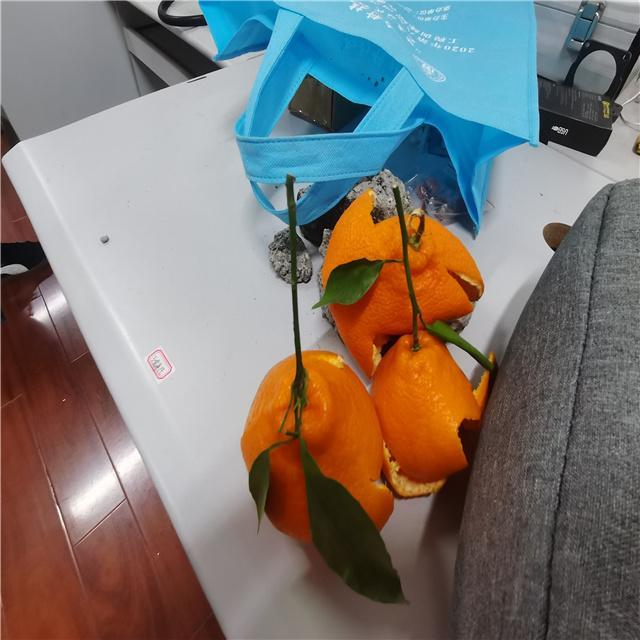orange-peel: (319, 187, 485, 375), (239, 349, 394, 543), (369, 329, 482, 483)
